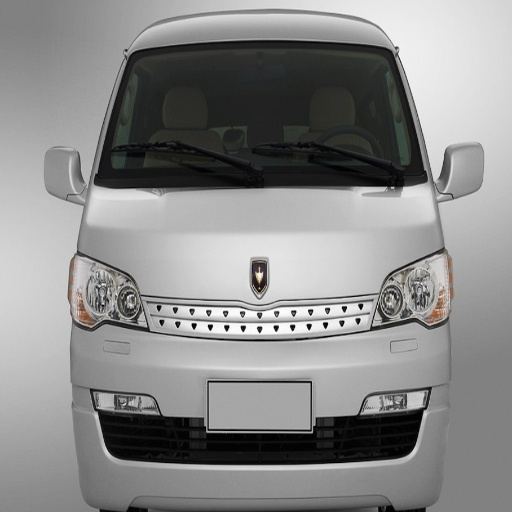front_bumper: (72, 295, 448, 509), (300, 293, 377, 330)
front_right_light: (69, 255, 146, 329)
hood: (81, 184, 441, 296)
left_mirror: (439, 142, 485, 197)
right_mirror: (45, 148, 83, 204)
